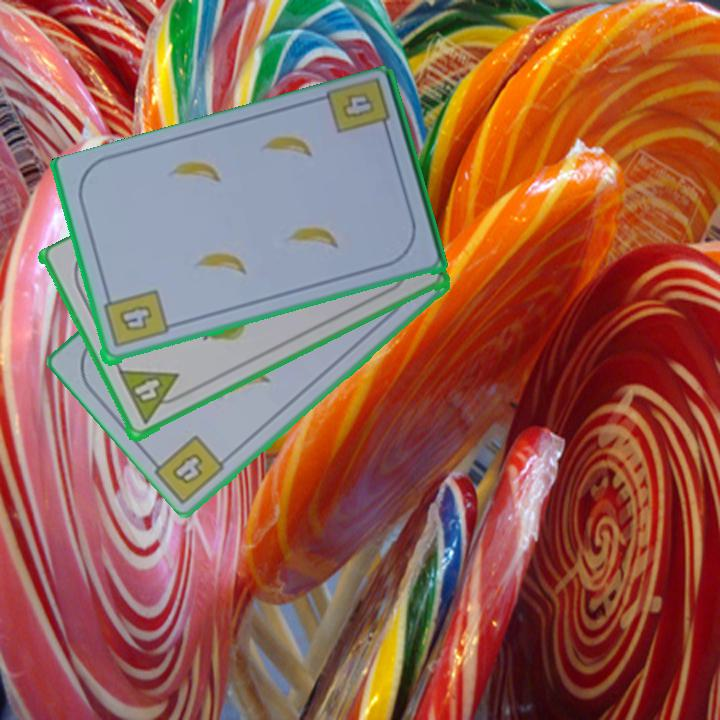4b: (99, 286, 170, 351), (322, 77, 393, 142), (168, 449, 206, 488)
4p: (115, 366, 189, 428)
